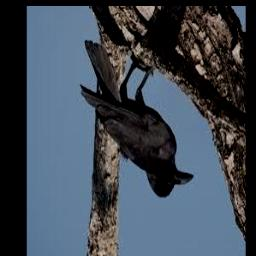Crow: (80, 39, 195, 198)
